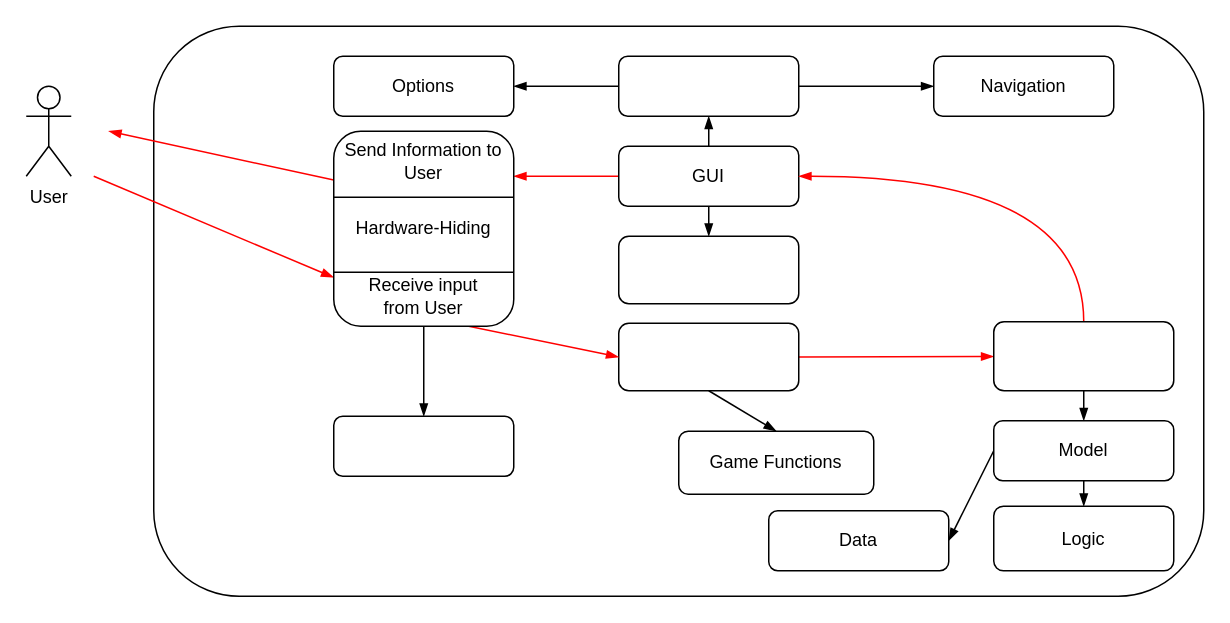
This 1230x623 diagram has some shape labels left out. Here are the shapes that lost their labels. From the top down, the box of each, then its label:
(617, 55, 799, 116): Menu
(617, 235, 799, 304): Display
(617, 322, 799, 391): Behaviour-Hiding
(992, 320, 1174, 391): Software Decision
(332, 415, 514, 476): MouseHandler
